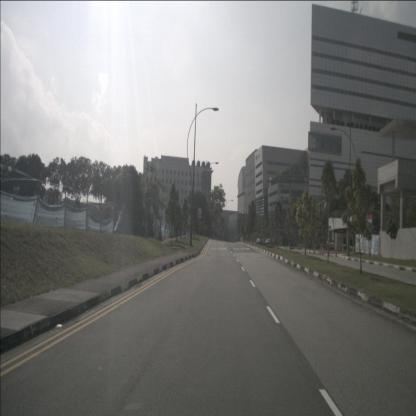cone: (362, 247, 366, 255), (378, 248, 381, 258), (368, 248, 371, 255), (321, 248, 324, 255), (341, 245, 344, 251), (319, 246, 321, 255), (313, 245, 315, 254), (353, 246, 355, 254), (335, 249, 337, 257)
